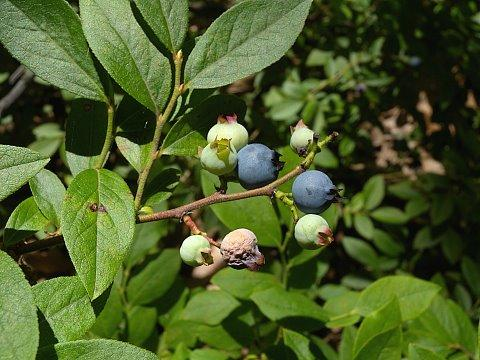Blueberry leaf: (182, 2, 332, 103), (55, 161, 136, 311), (5, 1, 111, 112), (87, 1, 184, 113)
